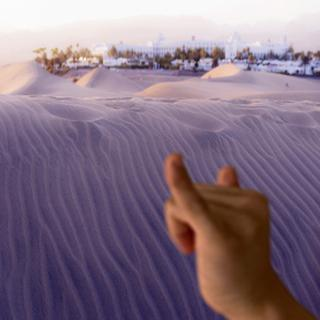HAVE: (154, 147, 290, 318)
